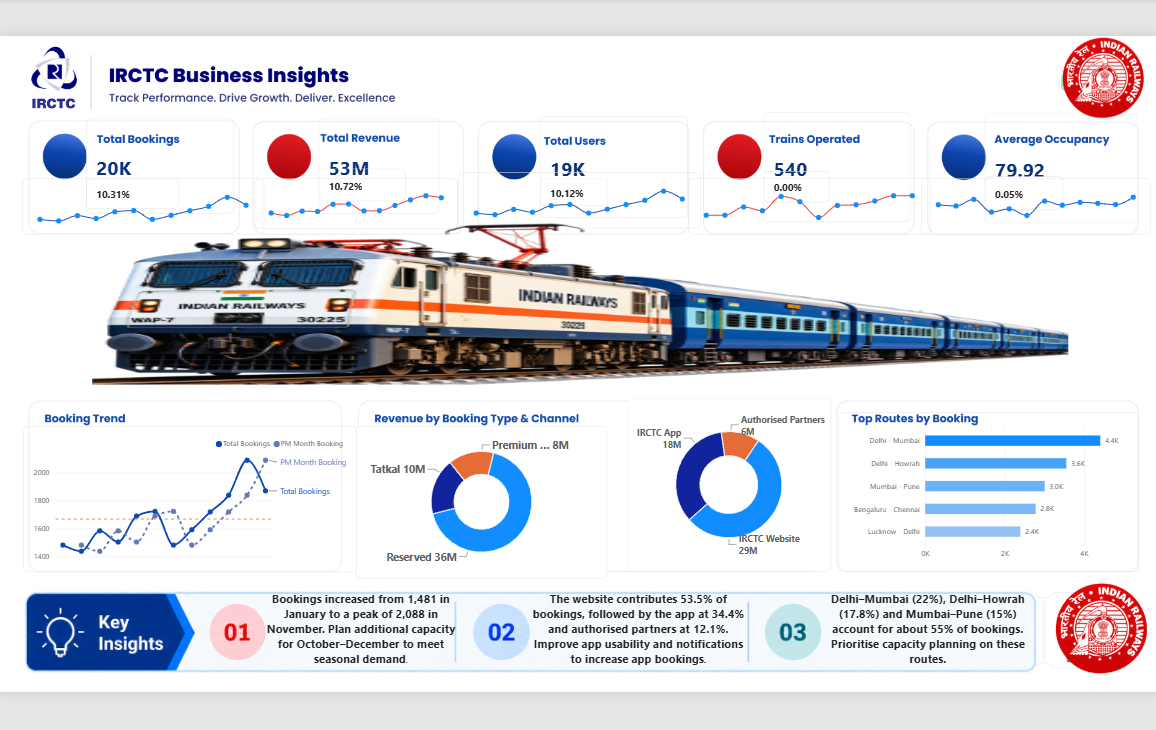

The page's visual inventory and layout, read from the dashboard file:
{"tool":"powerbi","page":{"name":"Booking and Revenue Overview","canvas":[1920,1080],"ordinal":0},"visuals":[{"type":"cardVisual","fields":{"Data":["irctc_Data.Total Bookings"]},"box":[148.7,135.6,245,157.5],"z":0},{"type":"cardVisual","fields":{"Data":["irctc_Data.Total_Revenue"]},"box":[531.5,135.6,199,157.5],"z":1000},{"type":"cardVisual","fields":{"Data":["irctc_Data.Total Users"]},"box":[894.6,131.2,245,168.4],"z":2000},{"type":"cardVisual","fields":{"Data":["irctc_Data.Train Operated"]},"box":[1264.3,124.7,242.8,181.5],"z":3000},{"type":"cardVisual","fields":{"Data":["irctc_Data.Avg Occupancy"]},"box":[1627.3,126.9,253.7,181.5],"z":4000},{"type":"cardVisual","fields":{"Data":["irctc_Data.MOM Revenue%"]},"box":[531.5,218.7,144.4,54.7],"z":5000},{"type":"cardVisual","fields":{"Data":["irctc_Data.MOM Bokking%"]},"box":[148.7,234,153.1,50.3],"z":6000},{"type":"cardVisual","fields":{"Data":["irctc_Data.Mom Train_op"]},"box":[1627.3,229.7,129.1,56.9],"z":7000},{"type":"cardVisual","fields":{"Data":["irctc_Data.MoM Users %"]},"box":[894.6,234,113.7,45.9],"z":8000},{"type":"cardVisual","fields":{"Data":["irctc_Data.MoM Train Op %"]},"box":[1264.3,223.1,109.4,52.5],"z":9000},{"type":"lineChart","fields":{"Category":["Date_Table.Month_Name"],"Y":["irctc_Data.Total Bookings","irctc_Data.PM Booking"]},"box":[44.3,641.5,548.7,240.6],"z":10000},{"type":"donutChart","fields":{"Category":["irctc_Data.Booking_Type"],"Y":["irctc_Data.Total_Revenue"]},"box":[593,641.5,413.6,251.1],"z":11000},{"type":"donutChart","fields":{"Category":["irctc_Data.Booking_Channel"],"Y":["irctc_Data.Total_Revenue"]},"box":[1039.1,596.2,334.8,285.1],"z":12000},{"type":"barChart","fields":{"Category":["irctc_Data.Route"],"Y":["irctc_Data.Total Bookings"]},"box":[1386.7,619,494.3,262.5],"z":13000},{"type":"lineChart","fields":{"Category":["Date_Table.Month_Name"],"Y":["irctc_Data.Total Bookings"]},"box":[43.7,234,398.1,91.9],"z":14000},{"type":"lineChart","fields":{"Category":["Date_Table.Month_Name"],"Y":["irctc_Data.Total Users"]},"box":[761.2,225.3,398.1,91.9],"z":15000},{"type":"lineChart","fields":{"Category":["Date_Table.Month_Name"],"Y":["irctc_Data.Avg Occupancy"]},"box":[1522.4,234,378.4,91.9],"z":16000},{"type":"lineChart","fields":{"Category":["Date_Table.Month_Name"],"Y":["irctc_Data.Total_Revenue"]},"box":[426.5,234,334.7,83.1],"z":17000},{"type":"lineChart","fields":{"Category":["Date_Table.Month_Name"],"Y":["irctc_Data.Train Operated"]},"box":[1139.6,234,398.1,91.9],"z":18000},{"type":"image","box":[157.7,306.8,1607.5,267.5],"z":19000},{"type":"image","box":[1748,0,152,136],"z":20000},{"type":"image","box":[1742,894,158,162],"z":21000},{"type":"image","box":[43.2,893.3,1669.3,168.8],"z":22000},{"type":"textbox","box":[440.5,913.9,321.1,142],"z":23000},{"type":"textbox","box":[878.9,913.9,358.1,142],"z":24000},{"type":"textbox","box":[1356.4,913.9,356.1,142],"z":25000}]}

Visuals, with their boxes on the page's 1920x1080 design canvas (x1, y1, x2, y2). These are canvas units, not pixel positions in the 1156x730 screenshot, which may show the page scaled, cropped or inside an application window:
cardVisual - irctc_Data.Total Bookings: <bbox>149, 136, 394, 293</bbox>
cardVisual - irctc_Data.Total_Revenue: <bbox>532, 136, 730, 293</bbox>
cardVisual - irctc_Data.Total Users: <bbox>895, 131, 1140, 300</bbox>
cardVisual - irctc_Data.Train Operated: <bbox>1264, 125, 1507, 306</bbox>
cardVisual - irctc_Data.Avg Occupancy: <bbox>1627, 127, 1881, 308</bbox>
cardVisual - irctc_Data.MOM Revenue%: <bbox>532, 219, 676, 273</bbox>
cardVisual - irctc_Data.MOM Bokking%: <bbox>149, 234, 302, 284</bbox>
cardVisual - irctc_Data.Mom Train_op: <bbox>1627, 230, 1756, 287</bbox>
cardVisual - irctc_Data.MoM Users %: <bbox>895, 234, 1008, 280</bbox>
cardVisual - irctc_Data.MoM Train Op %: <bbox>1264, 223, 1374, 276</bbox>
lineChart - Date_Table.Month_Name x irctc_Data.Total Bookings: <bbox>44, 642, 593, 882</bbox>
donutChart - irctc_Data.Booking_Type x irctc_Data.Total_Revenue: <bbox>593, 642, 1007, 893</bbox>
donutChart - irctc_Data.Booking_Channel x irctc_Data.Total_Revenue: <bbox>1039, 596, 1374, 881</bbox>
barChart - irctc_Data.Route x irctc_Data.Total Bookings: <bbox>1387, 619, 1881, 882</bbox>
lineChart - Date_Table.Month_Name x irctc_Data.Total Bookings: <bbox>44, 234, 442, 326</bbox>
lineChart - Date_Table.Month_Name x irctc_Data.Total Users: <bbox>761, 225, 1159, 317</bbox>
lineChart - Date_Table.Month_Name x irctc_Data.Avg Occupancy: <bbox>1522, 234, 1901, 326</bbox>
lineChart - Date_Table.Month_Name x irctc_Data.Total_Revenue: <bbox>426, 234, 761, 317</bbox>
lineChart - Date_Table.Month_Name x irctc_Data.Train Operated: <bbox>1140, 234, 1538, 326</bbox>
image: <bbox>158, 307, 1765, 574</bbox>
image: <bbox>1748, 0, 1900, 136</bbox>
image: <bbox>1742, 894, 1900, 1056</bbox>
image: <bbox>43, 893, 1712, 1062</bbox>
textbox: <bbox>440, 914, 762, 1056</bbox>
textbox: <bbox>879, 914, 1237, 1056</bbox>
textbox: <bbox>1356, 914, 1712, 1056</bbox>
